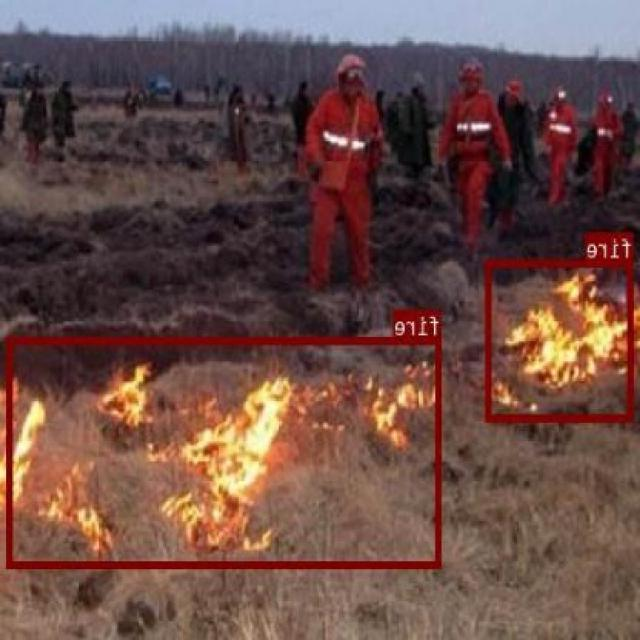Fire: (9, 336, 442, 567), (487, 258, 635, 420)
